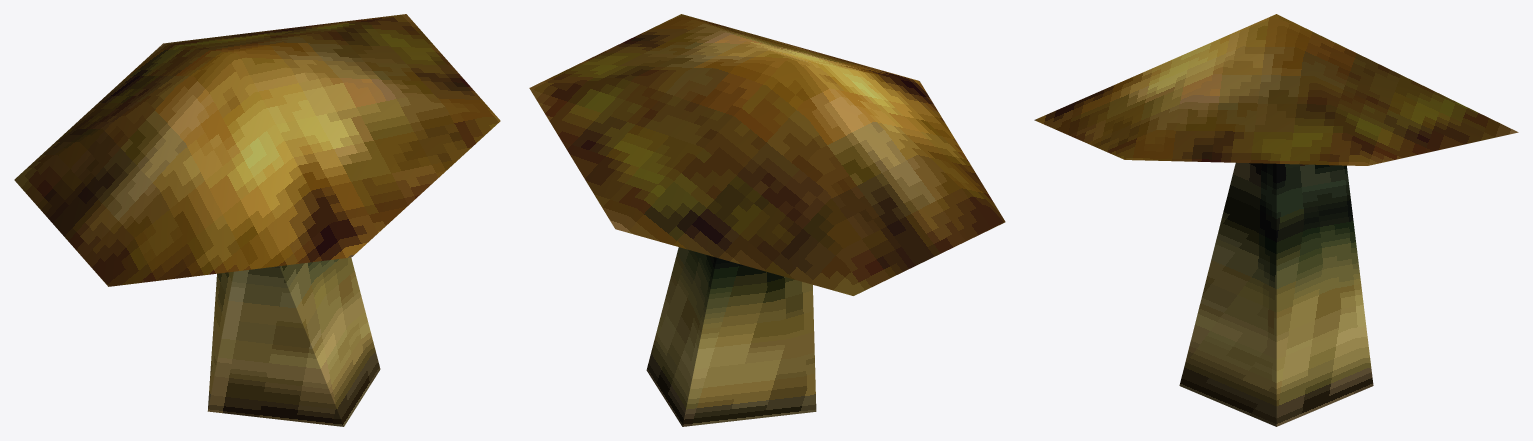
The model's file is frst_fngi_mushroom_redyellow_sm_l0.fbx.
3 views of the same model, side by side, from view 1: azimuth 30°, elevation 25°; view 2: azimuth 150°, elevation 25°; view 3: azimuth 270°, elevation 25° (orthographic). The views are drawn at different scales.
Parts seen in each view (by area): view 1: mesh_node; view 2: mesh_node; view 3: mesh_node.
Boxes of the visible parts, box(x1,y1,x2,y2) form: mesh_node: box(14, 14, 500, 426); mesh_node: box(529, 14, 1005, 426); mesh_node: box(1034, 14, 1518, 426).
Bounding box in the file's own units: 0.2042 × 0.1753 × 0.2252.
1 material, 1 textured.
